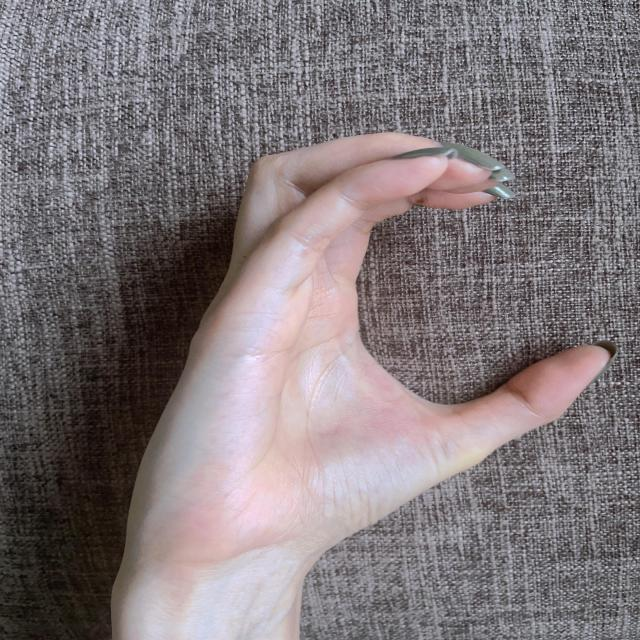C: (120, 125, 622, 564)
